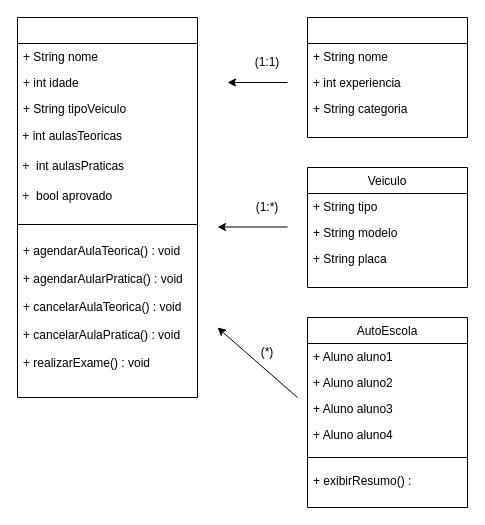
Image size: 485x525. Some labels were removed from this diagram. Here are the shapes that lost their labels. From the top down, the box of each, then its label:
(306, 16, 468, 138): Instrutor
(16, 16, 198, 398): Aluno
